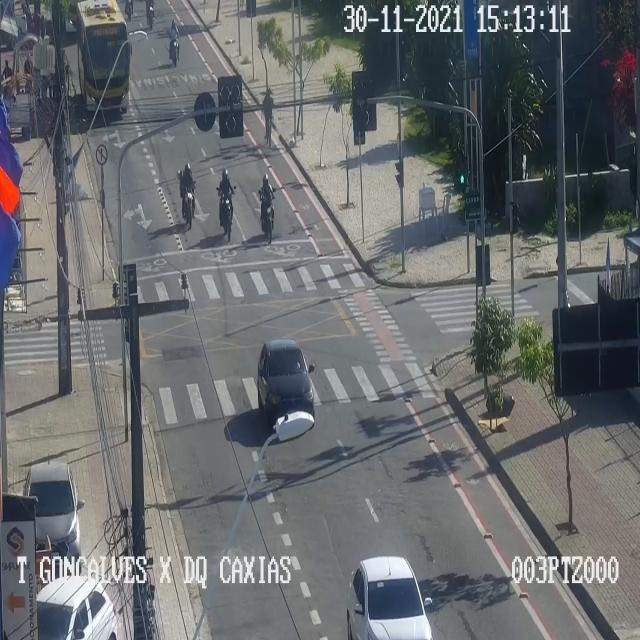Bus: (78, 0, 133, 114)
Car: (347, 556, 432, 639), (25, 462, 81, 572), (36, 575, 117, 639), (257, 338, 313, 419)
Motorcycle: (218, 167, 235, 240), (259, 173, 275, 242), (180, 162, 196, 228), (168, 20, 180, 66), (146, 0, 156, 33)
